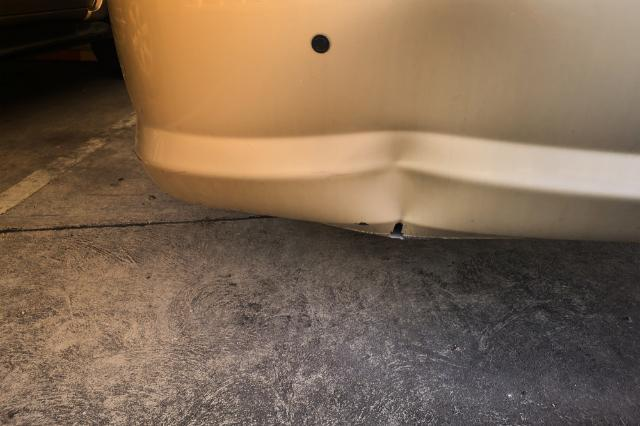dent: (340, 128, 468, 236)
